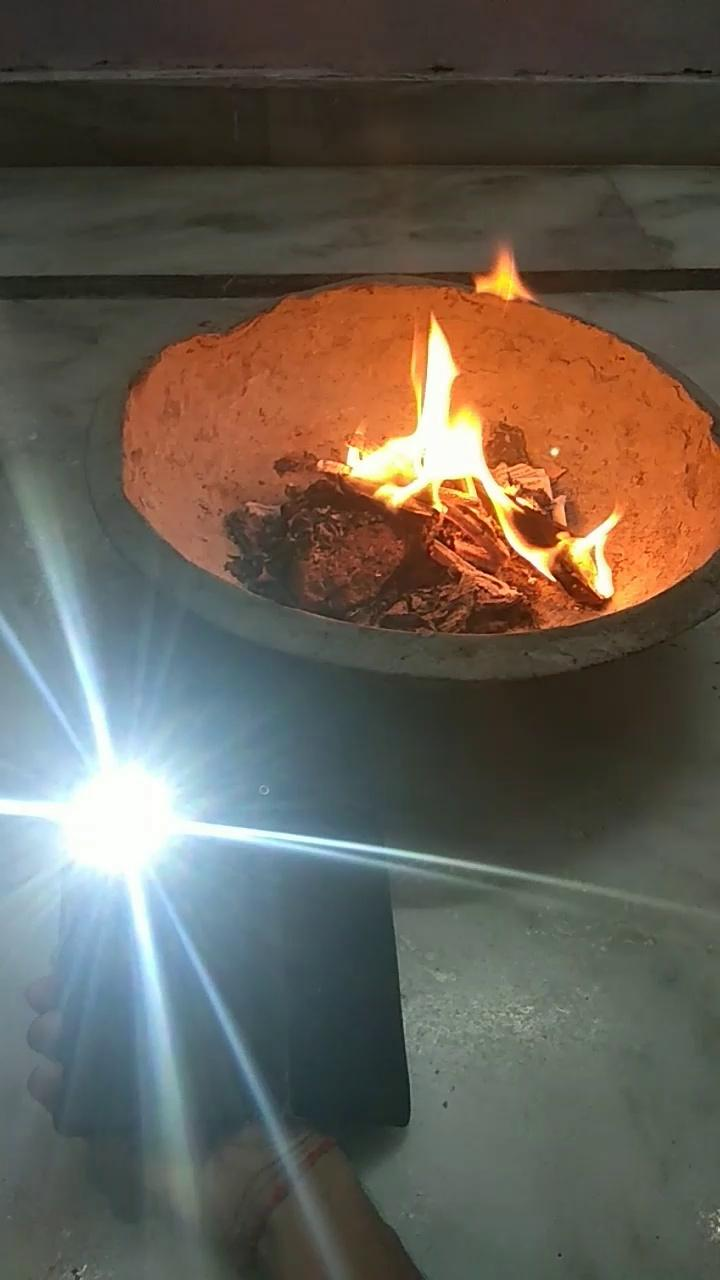fire: (344, 345, 640, 588)
